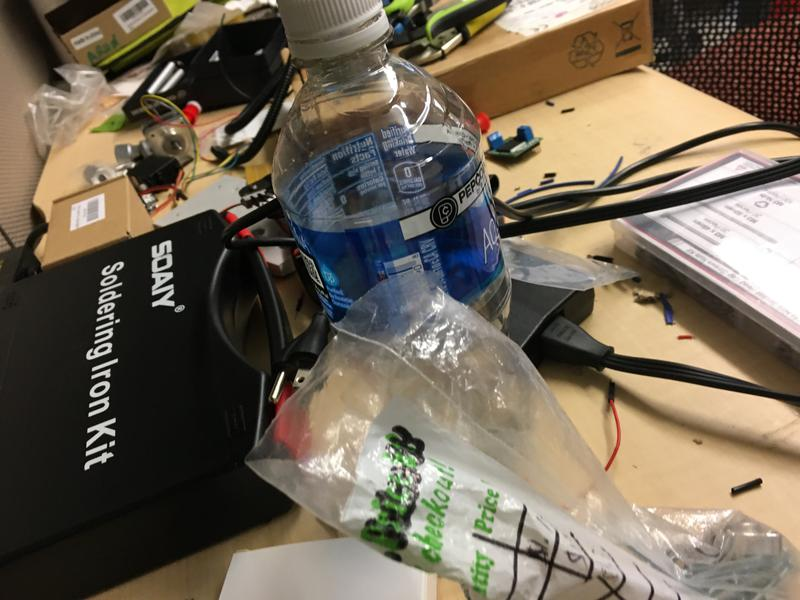bottle: (266, 1, 532, 465)
